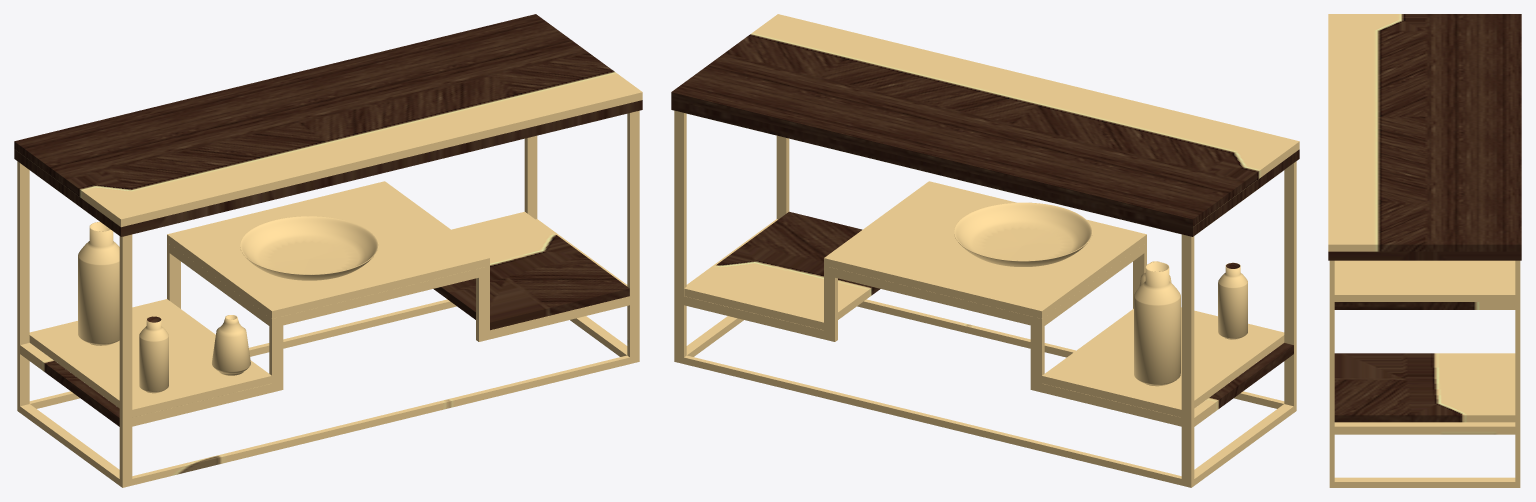
The model's file is Benfield_console_Table.fbx.
The picture shows the model from 3 angles, left to right: view 1: azimuth 30°, elevation 25°; view 2: azimuth 150°, elevation 25°; view 3: azimuth 270°, elevation 25°; orthographic projection. The views are drawn at different scales.
Visible parts, largest first — view 1: Benfield Console Table; view 2: Benfield Console Table; view 3: Benfield Console Table.
Boxes of the visible parts, x1=… form: Benfield Console Table: x1=14, y1=14, x2=642, y2=487; Benfield Console Table: x1=671, y1=14, x2=1299, y2=487; Benfield Console Table: x1=1328, y1=14, x2=1521, y2=487.
Bounding box in the file's own units: 1.82 × 0.897 × 0.6441.
